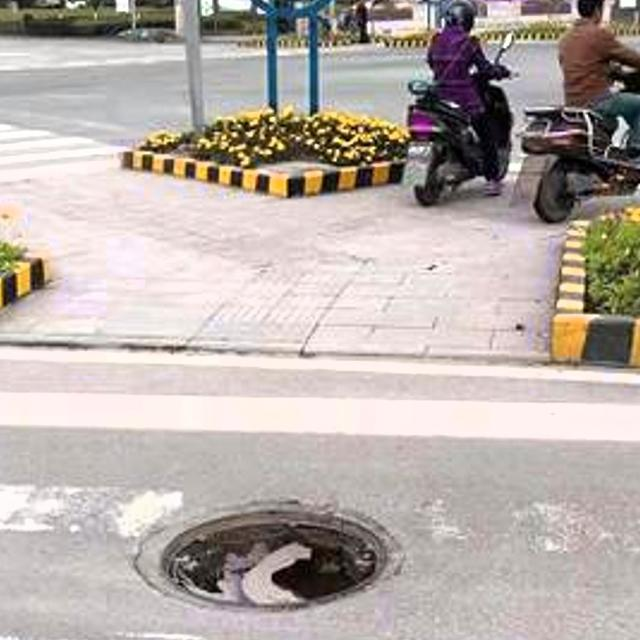broke: (108, 462, 422, 640)
